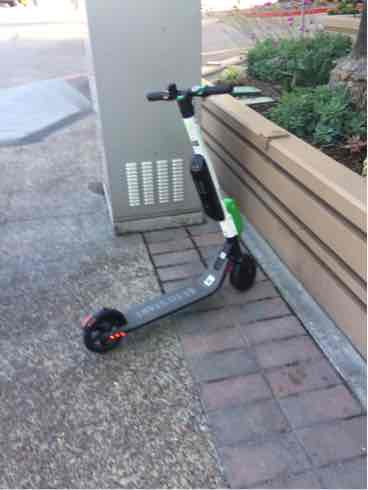scooter: (76, 74, 272, 365)
